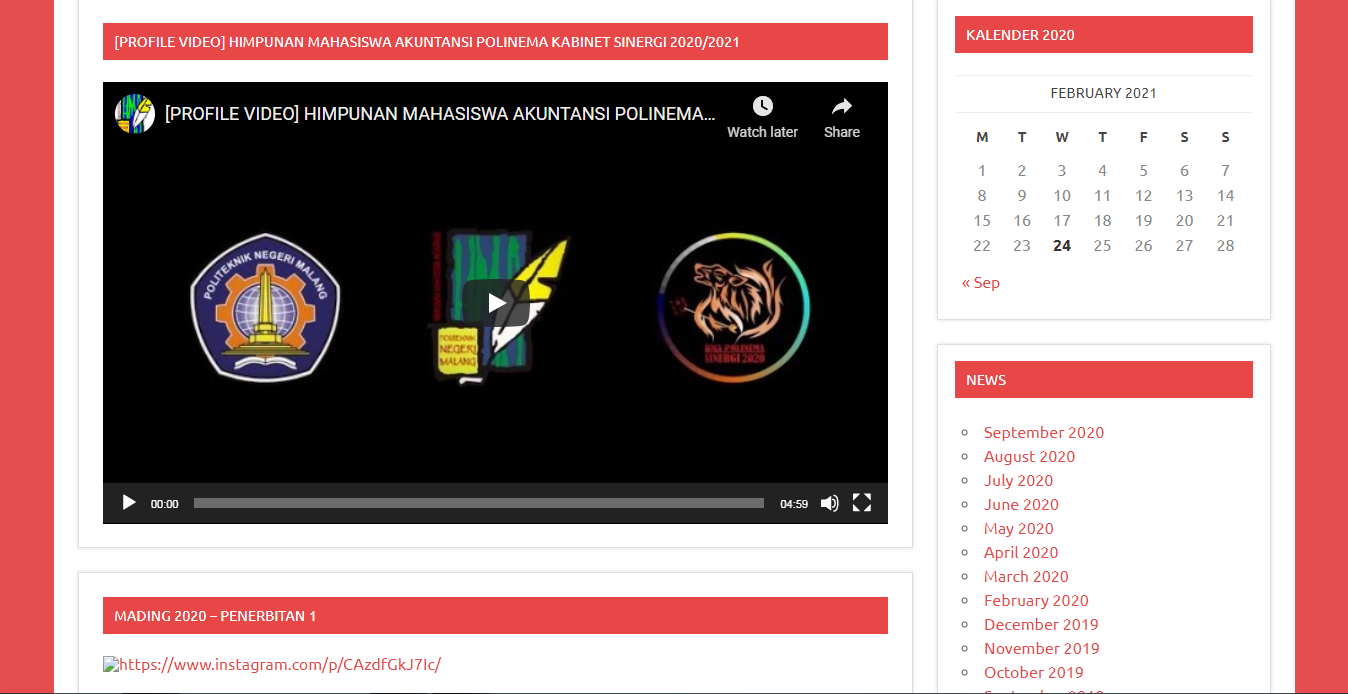Image: (107, 83, 889, 528)
Side Bar: (932, 347, 1270, 694), (936, 1, 1278, 327)
